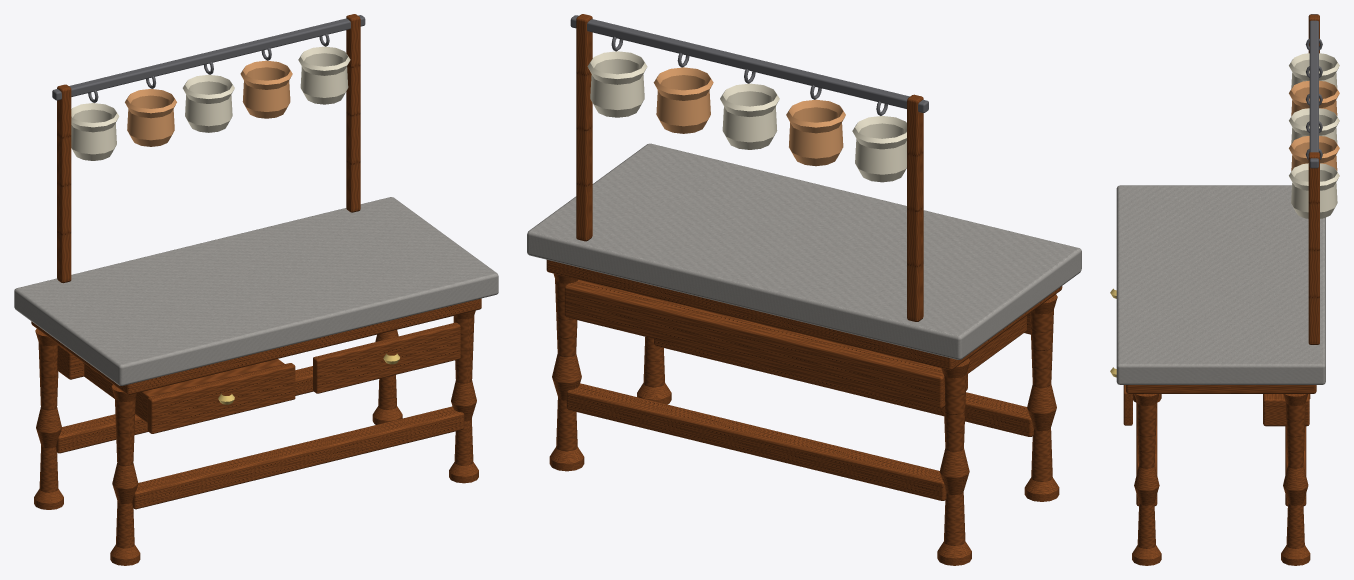
The model's file is witch-cottage-and-apothecary-stone-topped-mixing-bench-558eb52c__32484.glb.
The picture shows the model from 3 angles, left to right: view 1: azimuth 30°, elevation 25°; view 2: azimuth 150°, elevation 25°; view 3: azimuth 270°, elevation 25°; orthographic projection. The views are drawn at different scales.
Parts seen in each view (by area): view 1: stone-topped-mixing-bench, drawer-bench/oak; view 2: stone-topped-mixing-bench, drawer-bench/oak; view 3: stone-topped-mixing-bench.
Boxes of the visible parts, left/top/right/bottom form: stone-topped-mixing-bench: left=14, top=14, right=498, bottom=565; drawer-bench/oak: left=84, top=359, right=295, bottom=433; stone-topped-mixing-bench: left=527, top=14, right=1081, bottom=565; drawer-bench/oak: left=968, top=313, right=1030, bottom=373; stone-topped-mixing-bench: left=1110, top=14, right=1339, bottom=565.
Bounding box in the file's own units: 1.84 × 1.87 × 0.988.
6 materials, 2 textured.
